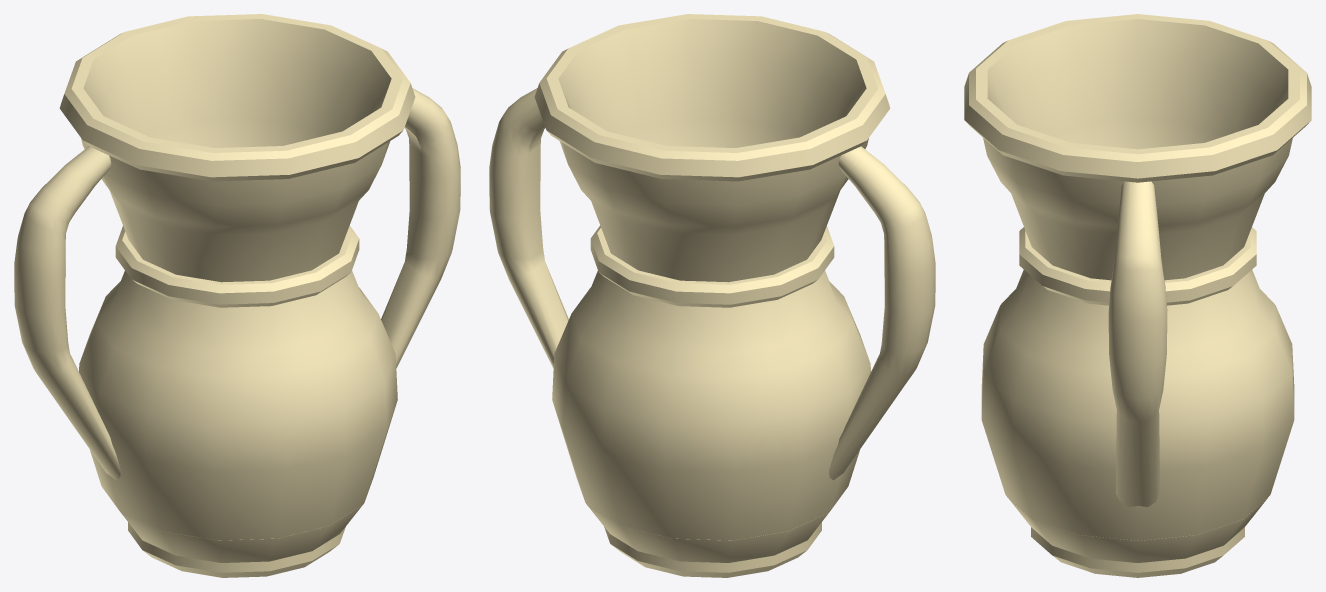
Rendered from Vasija_Modelo_1.fbx.
The picture shows the model from 3 angles, left to right: view 1: azimuth 30°, elevation 25°; view 2: azimuth 150°, elevation 25°; view 3: azimuth 270°, elevation 25°; orthographic projection.
Parts seen in each view (by area): view 1: Vasija_Modelo1; view 2: Vasija_Modelo1; view 3: Vasija_Modelo1.
Part boxes in pixels (x1,y1,x2,y2): Vasija_Modelo1: (14, 14, 460, 577); Vasija_Modelo1: (489, 14, 935, 577); Vasija_Modelo1: (964, 14, 1311, 577).
Size of the model in its own units: 0.6629 by 0.656 by 0.4565.
